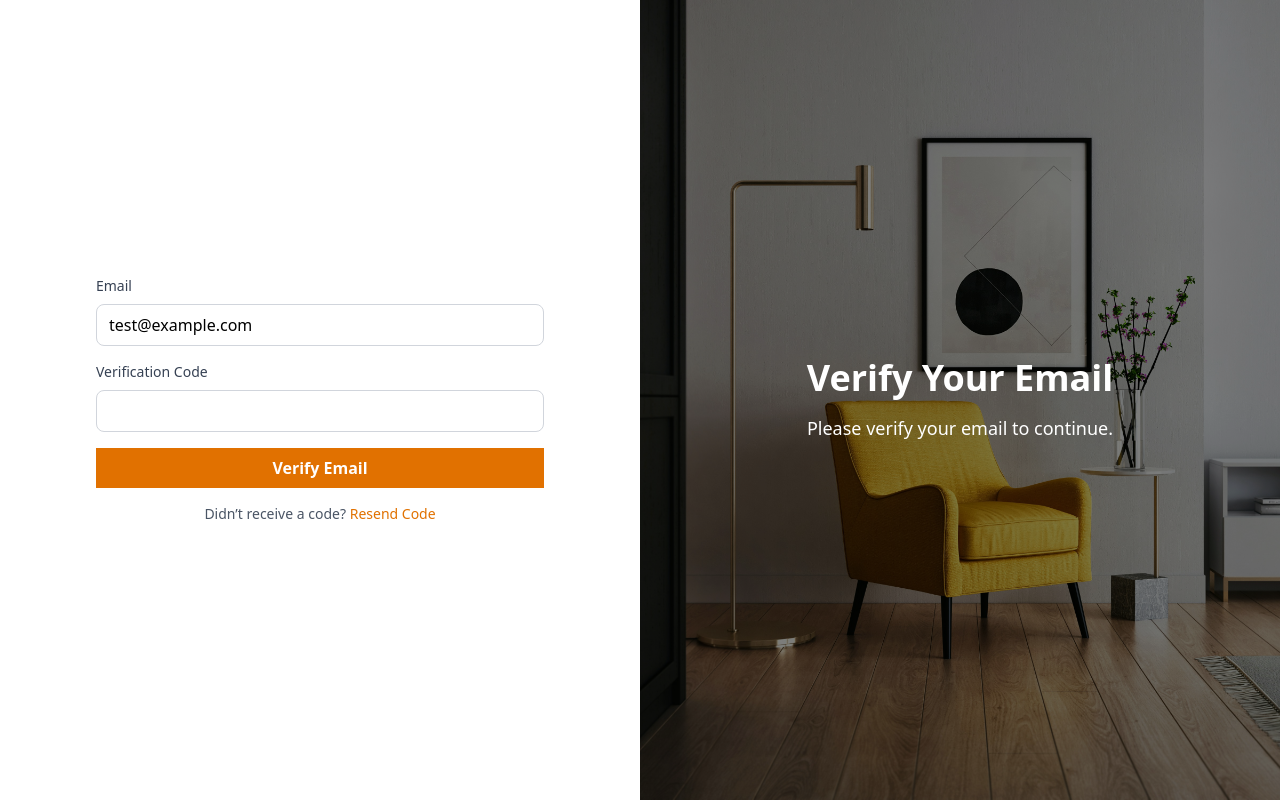
Test case: EmailVerificationPage › handles successful verification
Type "123456" into the field labelled "Verification Code" at (320, 411), box [96,390,544,432]
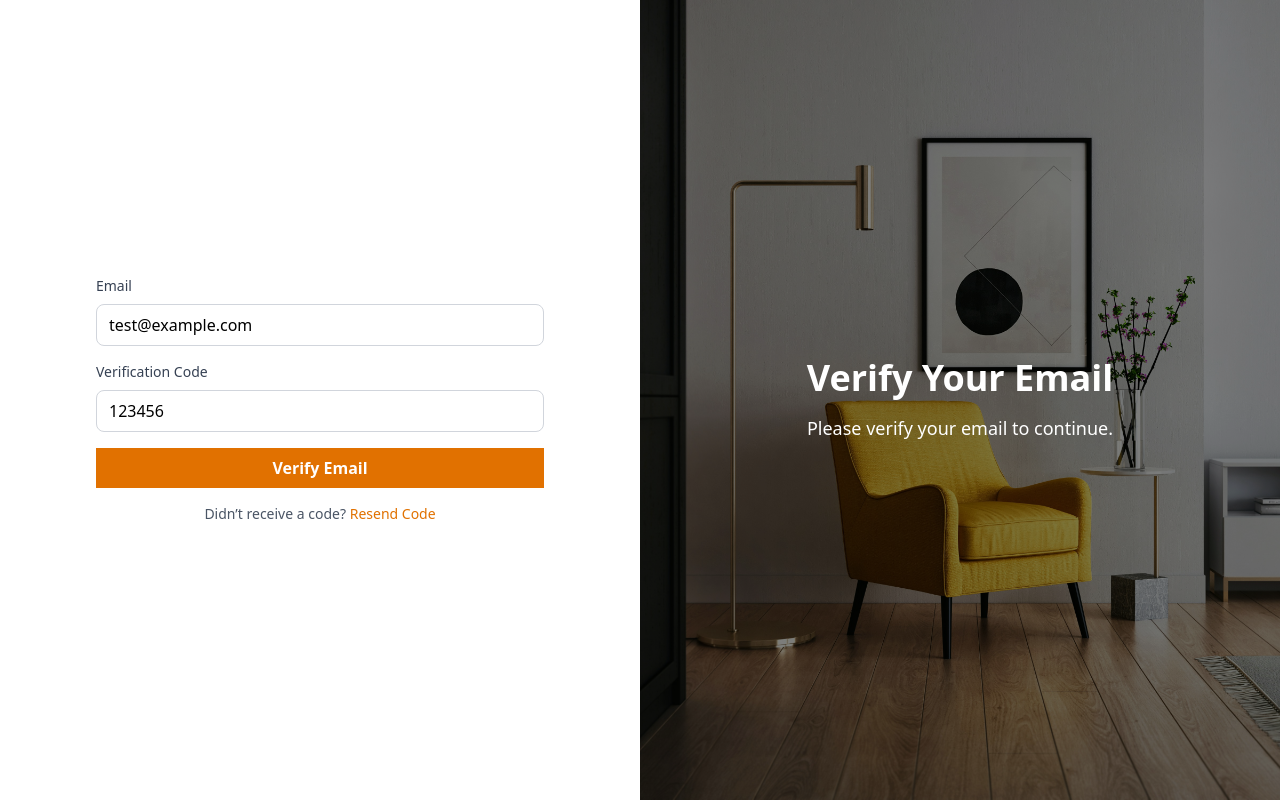
Click the button "Verify Email" at (320, 468), box [96,448,544,488]
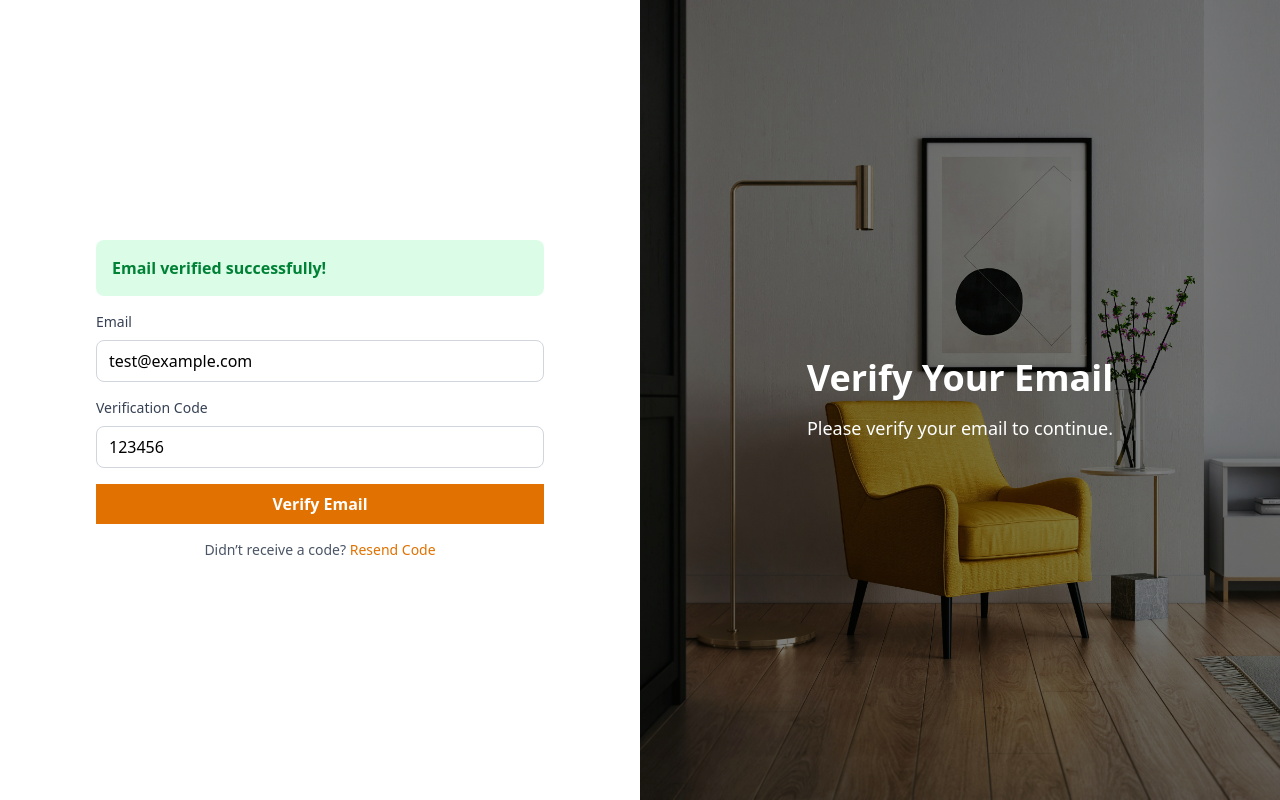
Result: the text "Email verified successfully!" is shown at [112,257,326,279]
